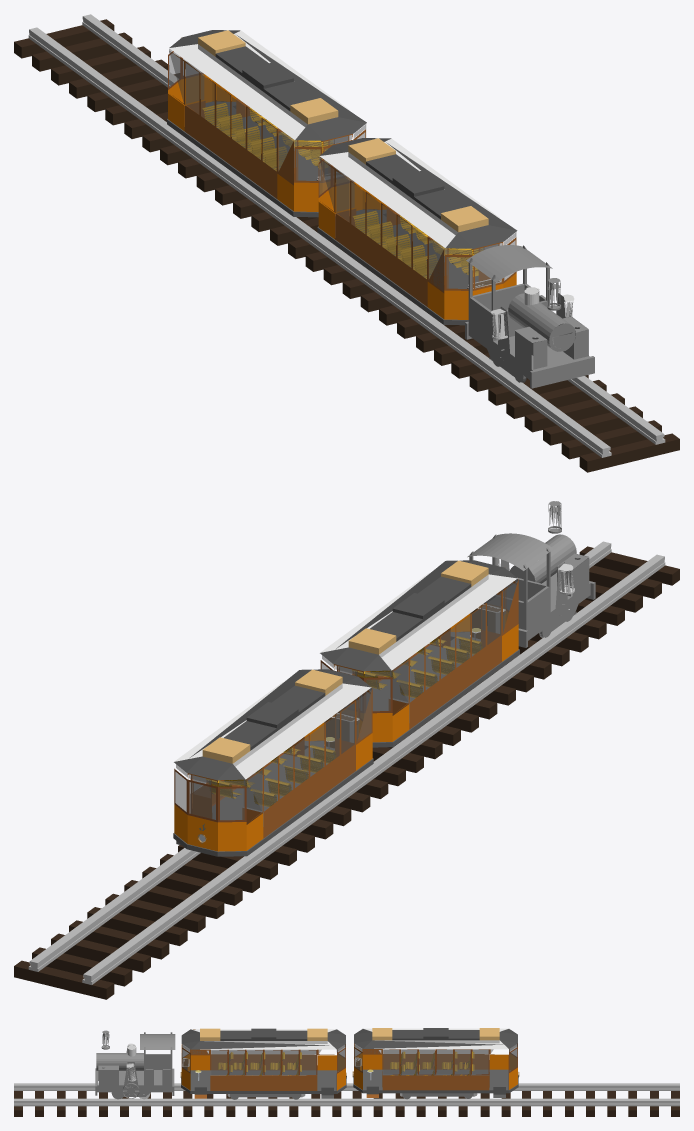
Rendered from low poly lokomatif.FBX.
3 renders of one model, top to bottom at view 1: azimuth 30°, elevation 25°; view 2: azimuth 150°, elevation 25°; view 3: azimuth 270°, elevation 25°, orthographic. The views are drawn at different scales.
Parts seen in each view (by area): view 1: track2; view 2: track2; view 3: track2.
Boxes of the visible parts, x1=… form: track2: x1=14, y1=14, x2=679, y2=472; track2: x1=14, y1=501, x2=679, y2=999; track2: x1=14, y1=1028, x2=679, y2=1116.
Bounding box in the file's own units: 118 × 150 × 1267.
